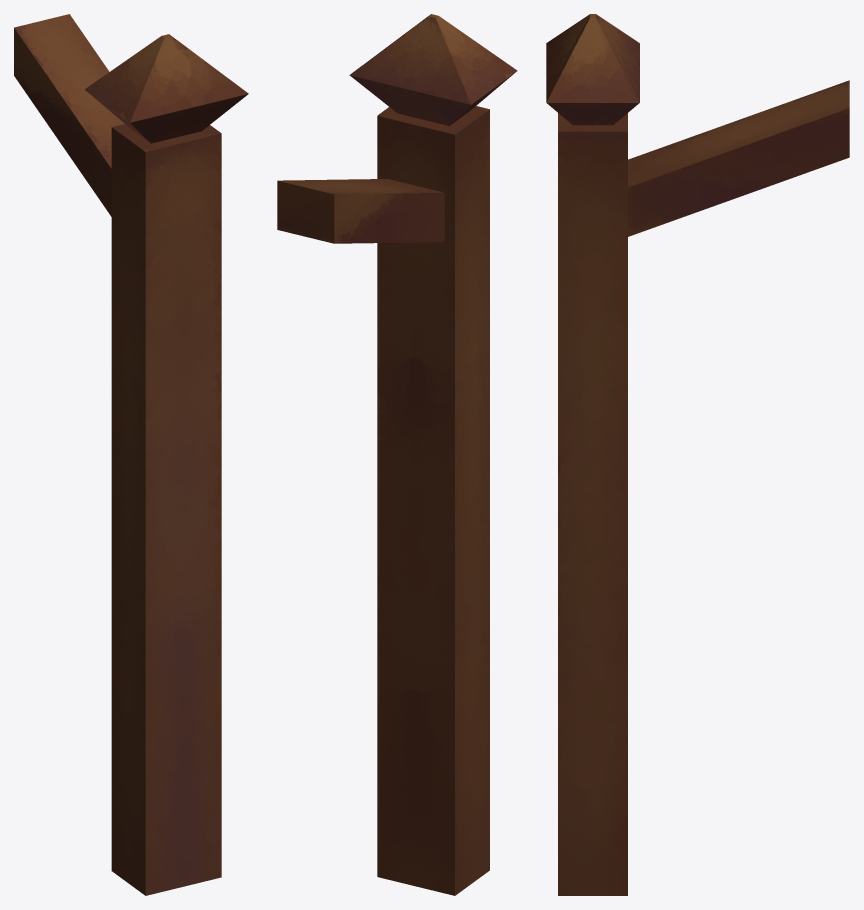
File: railing-2.fbx
The picture shows the model from 3 angles, left to right: view 1: azimuth 30°, elevation 25°; view 2: azimuth 150°, elevation 25°; view 3: azimuth 270°, elevation 25°; orthographic projection. The views are drawn at different scales.
Visible parts, largest first — view 1: Pagar.001; view 2: Pagar.001; view 3: Pagar.001.
Boxes of the visible parts, left/top/right/bottom form: Pagar.001: left=14, top=14, right=248, bottom=895; Pagar.001: left=277, top=14, right=517, bottom=895; Pagar.001: left=546, top=14, right=849, bottom=895.
Size of the model in its own units: 46.93 by 316 by 101.
Materials: 1 (1 with a texture image).
